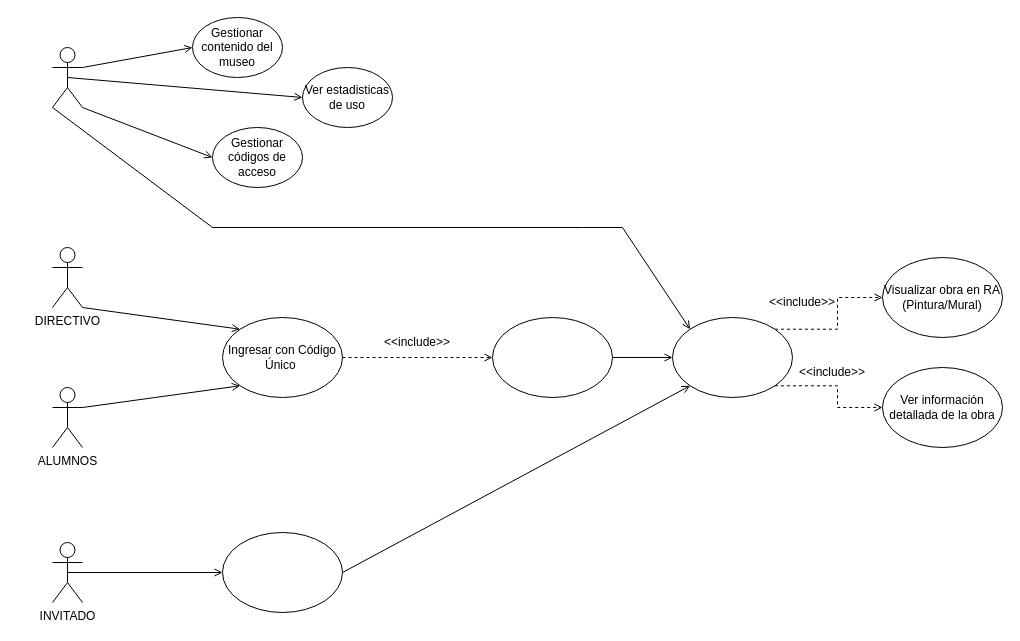
This 1020x641 diagram has some shape labels left out. Each missing label, with the centre of its shape:
ADMINISTRADOR: the point at 67,77
Escanear código QR (en árbol): the point at 732,357
Ingresar como invitado (sin código): the point at 282,572
Validar Nivel de acceso: the point at 552,357
